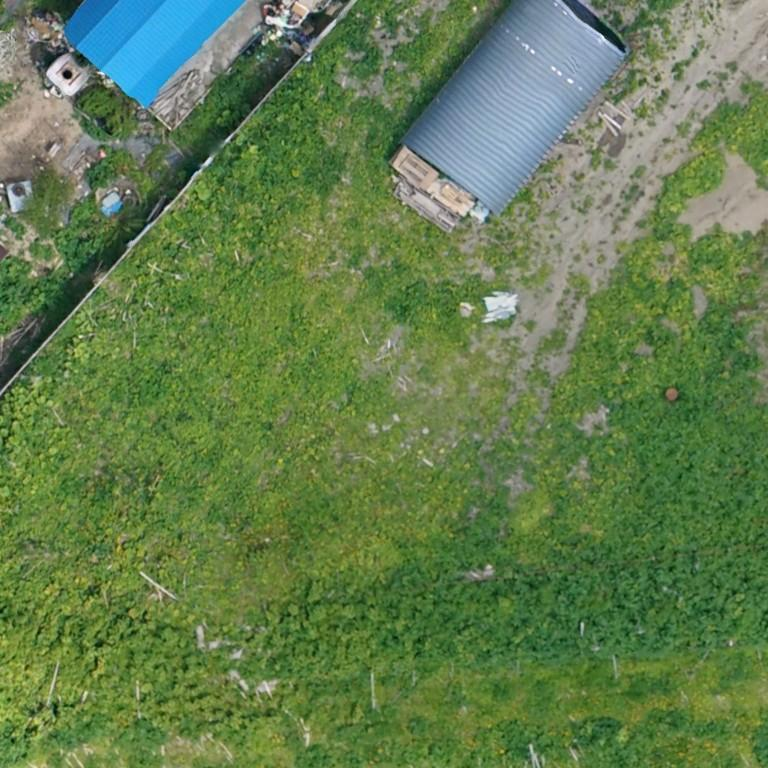hogweed: (245, 391, 767, 688), (578, 709, 731, 767), (0, 257, 58, 330), (60, 205, 97, 270), (121, 720, 163, 758), (57, 718, 102, 747), (391, 282, 427, 318), (299, 747, 330, 767), (755, 723, 767, 767)
